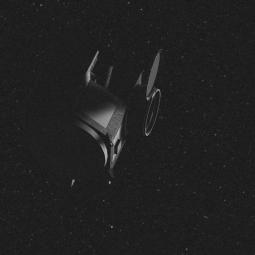cheops: (42, 47, 168, 192)
